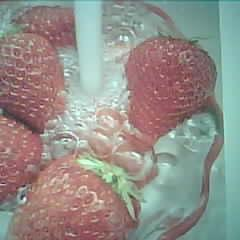straw-ripe: (12, 161, 140, 240), (126, 36, 216, 145), (0, 34, 65, 130)
